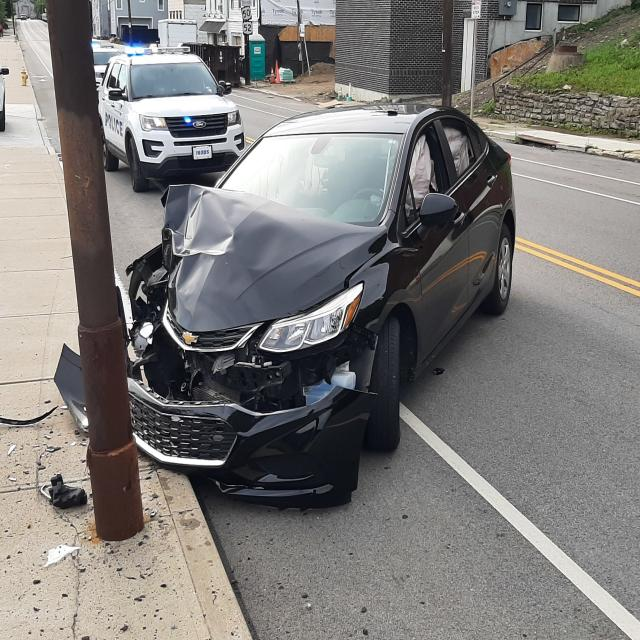accident: (70, 94, 441, 604)
